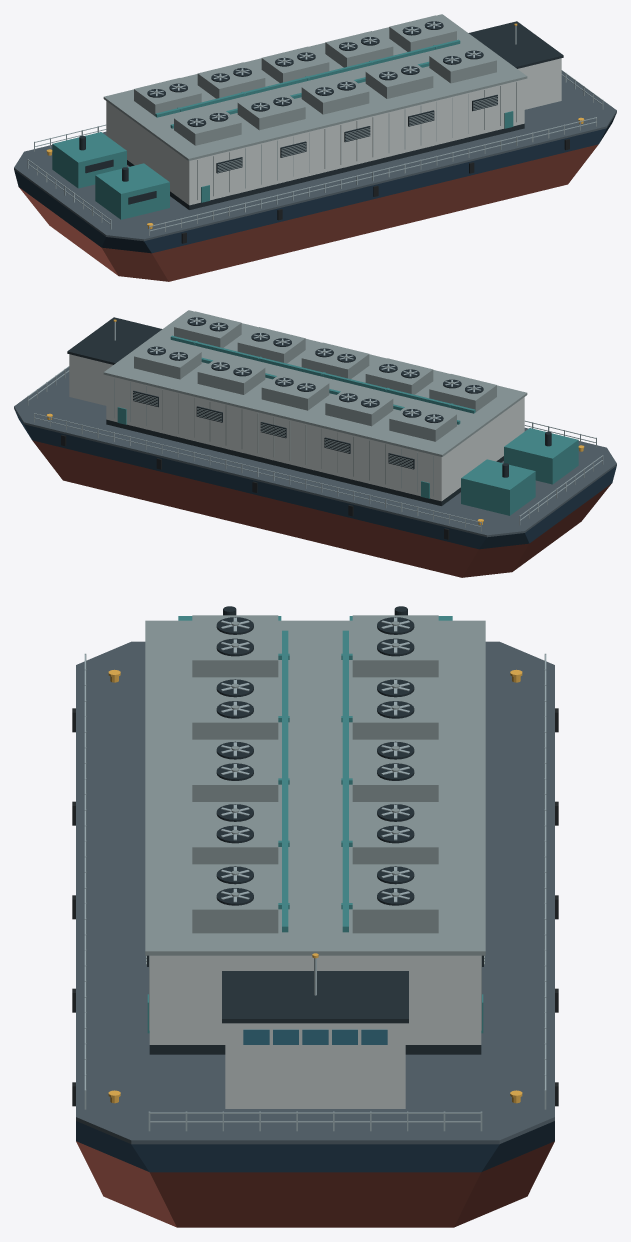
File: fdc.glb
3 renders of one model, top to bottom at view 1: azimuth 30°, elevation 25°; view 2: azimuth 150°, elevation 25°; view 3: azimuth 270°, elevation 25°, orthographic. The views are drawn at different scales.
Visible parts, largest first — view 1: Hull, Server hall, Roof cooling, Service modules, Deck fittings; view 2: Hull, Server hall, Roof cooling, Service modules, Deck fittings; view 3: Hull, Server hall, Roof cooling, Service modules, Deck fittings.
Part boxes in pixels (x1,y1,x2,y2): Hull: [14, 71, 616, 281]; Server hall: [103, 14, 527, 209]; Roof cooling: [134, 15, 496, 145]; Service modules: [52, 21, 563, 219]; Deck fittings: [27, 70, 603, 243]; Hull: [14, 367, 616, 577]; Server hall: [103, 310, 527, 505]; Roof cooling: [134, 311, 496, 441]; Service modules: [67, 317, 578, 515]; Deck fittings: [27, 366, 603, 539]; Hull: [76, 641, 554, 1227]; Server hall: [145, 620, 485, 1054]; Roof cooling: [192, 615, 438, 933]; Service modules: [178, 606, 452, 1108]; Deck fittings: [72, 653, 558, 1131].
Bounding box in the file's own units: 64 × 14.57 × 26.39.
